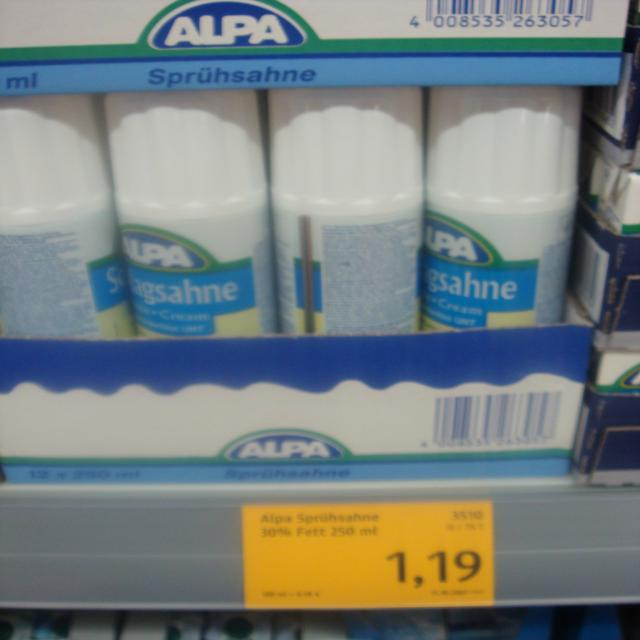cream: (107, 89, 278, 337), (424, 85, 581, 330), (269, 87, 423, 335), (0, 94, 134, 339), (141, 135, 142, 136)
